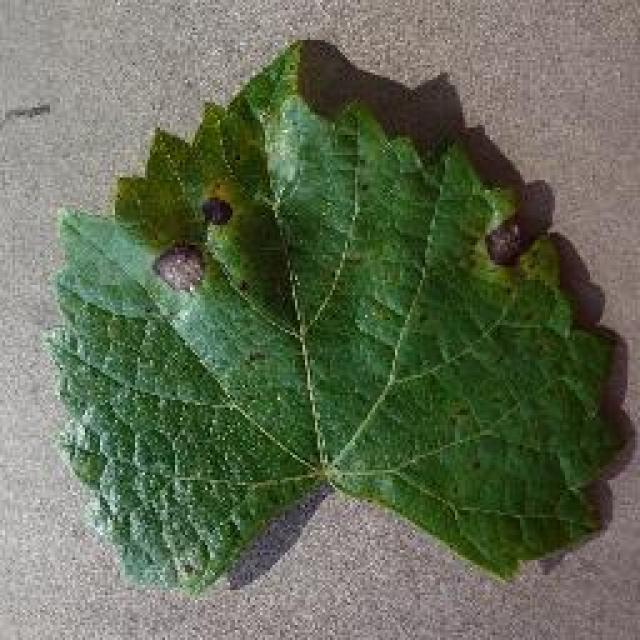Grape___Black_rot: (32, 38, 626, 596)
